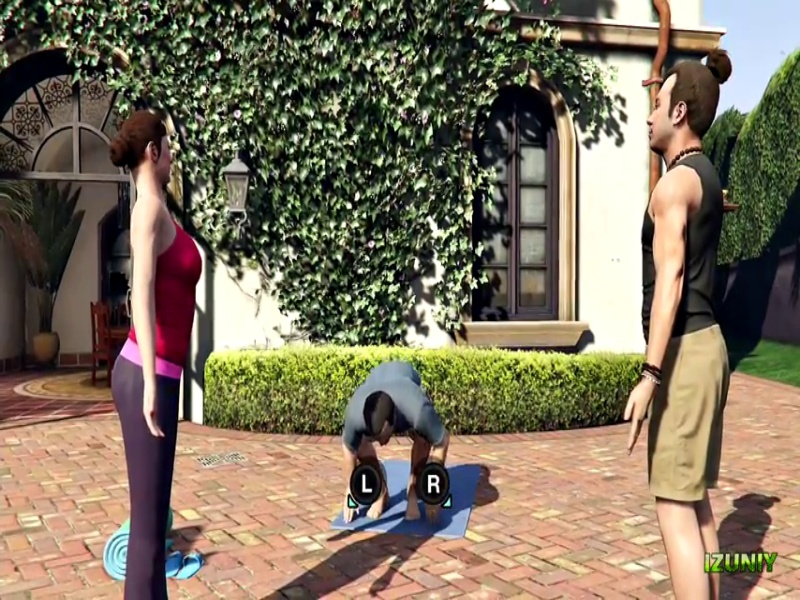licenseplate: (454, 335, 523, 362)
